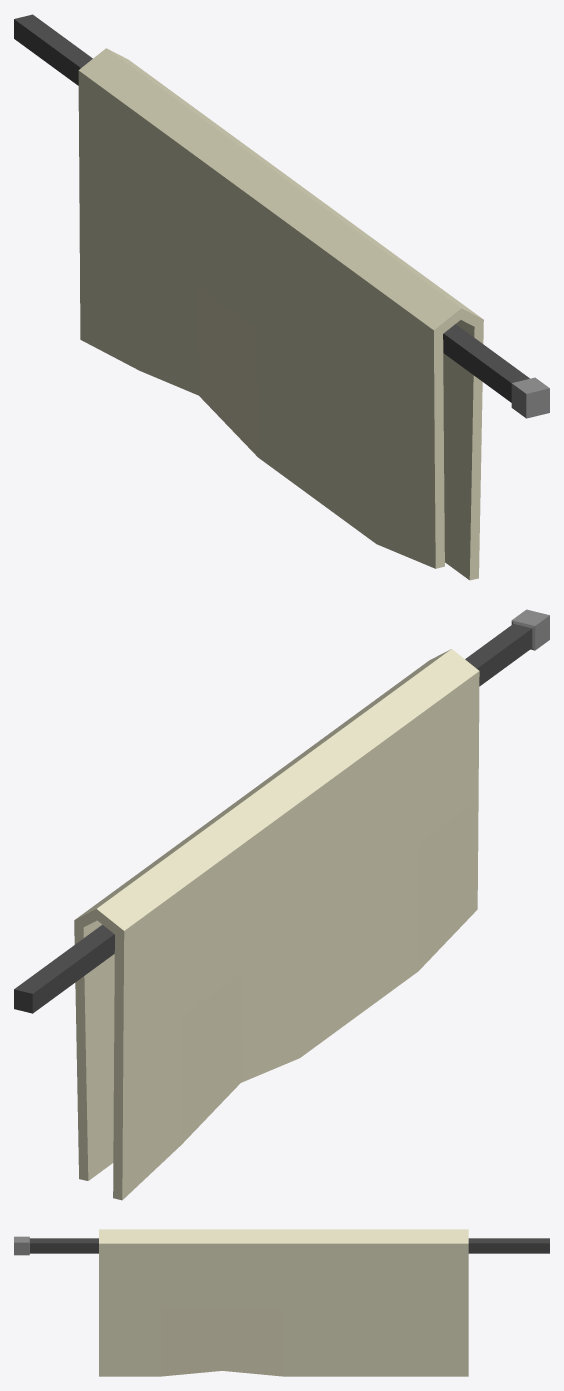
Rendered from clothes3.fbx.
3 renders of one model, top to bottom at view 1: azimuth 30°, elevation 25°; view 2: azimuth 150°, elevation 25°; view 3: azimuth 270°, elevation 25°, orthographic. The views are drawn at different scales.
Parts seen in each view (by area): view 1: Cube.014; view 2: Cube.014; view 3: Cube.014.
Boxes of the visible parts, left/top/right/bottom form: Cube.014: left=14, top=14, right=549, bottom=580; Cube.014: left=14, top=609, right=549, bottom=1200; Cube.014: left=14, top=1229, right=549, bottom=1376.
Size of the model in its own units: 16.26 by 88.59 by 290.
